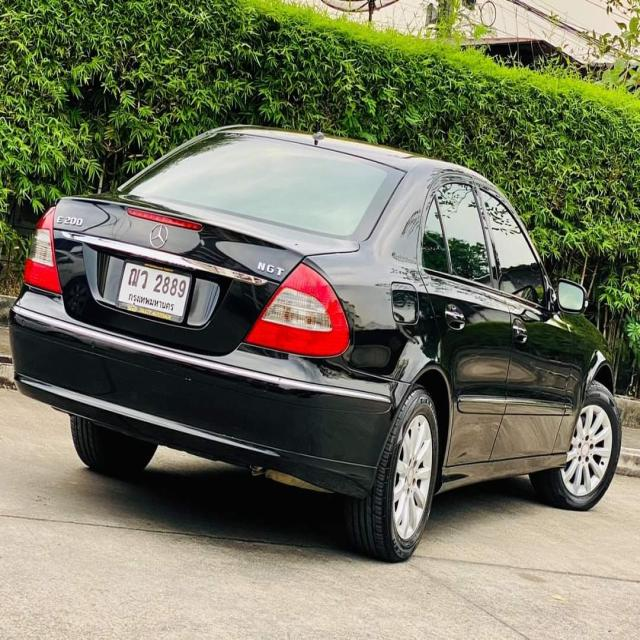license_plate: (114, 251, 198, 328)
